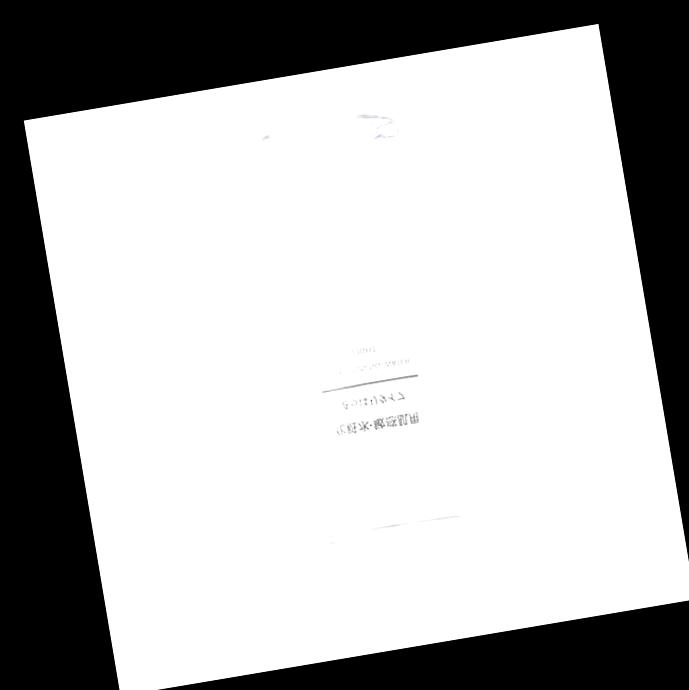cosmetic: (250, 110, 479, 608)
